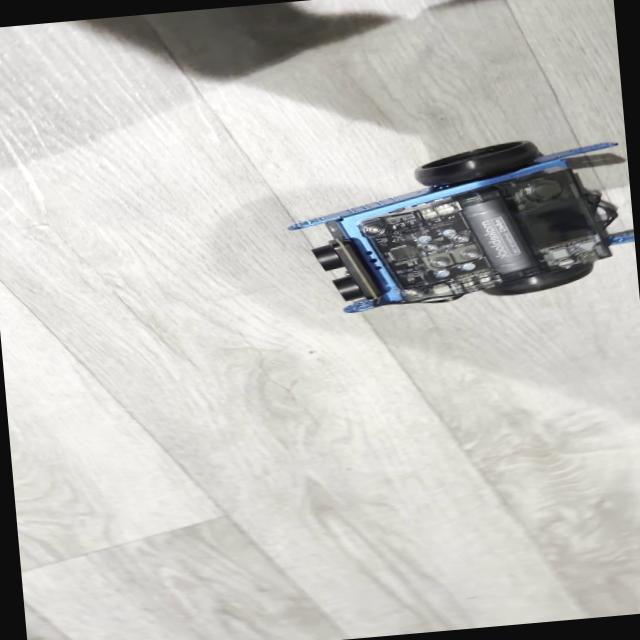mbot-detection: (272, 128, 640, 330)
